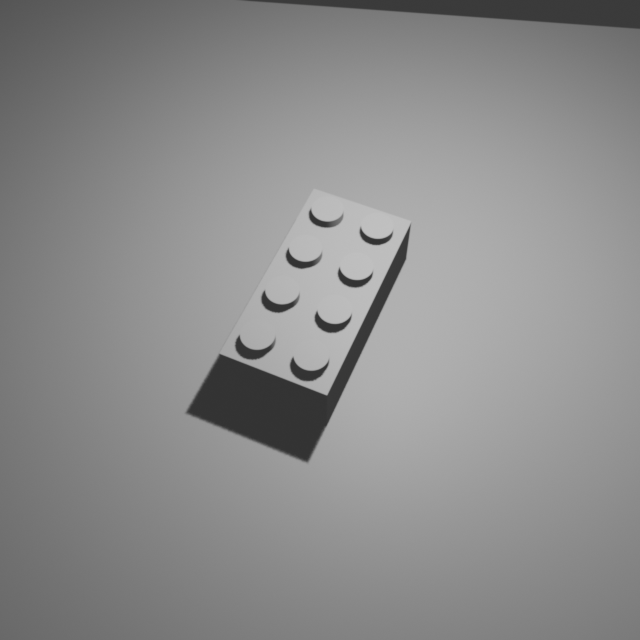lego_2x4: (218, 182, 412, 427)
